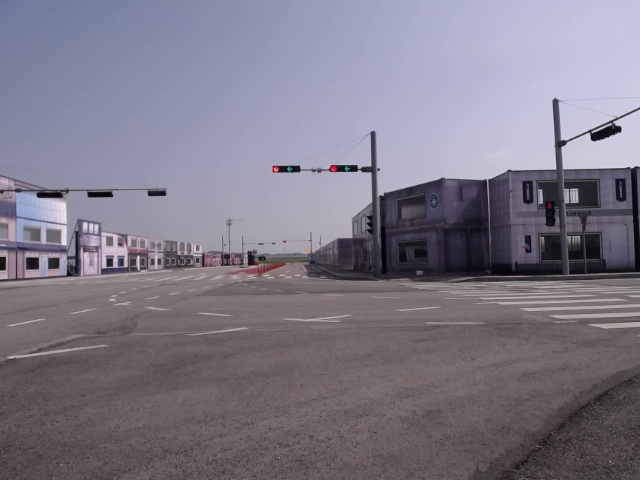left_green_4: (272, 166, 299, 173), (331, 165, 357, 172)
